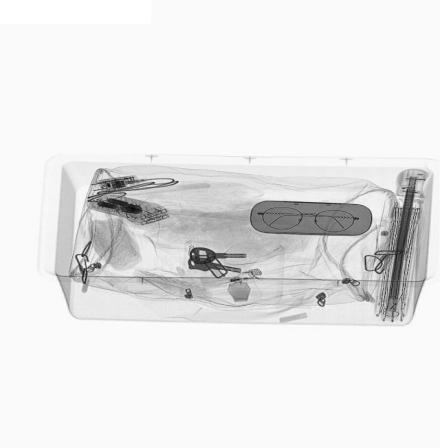Lighter: (199, 267, 265, 288)
